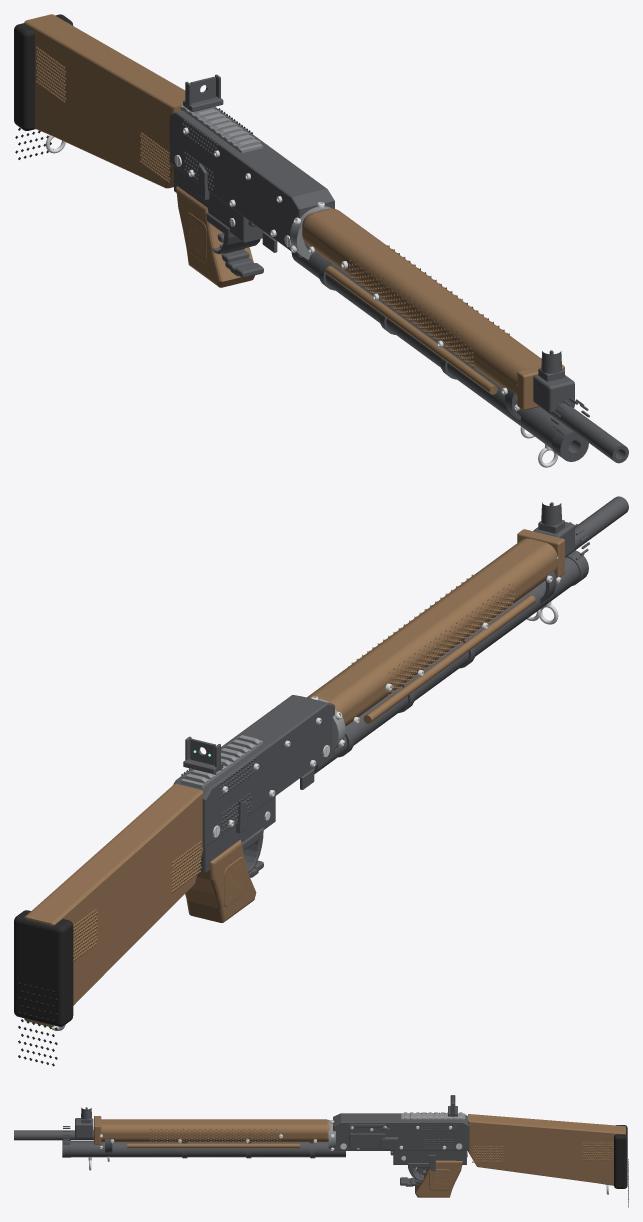
File: win94.glb
The picture shows the model from 3 angles, top to bottom: view 1: azimuth 30°, elevation 25°; view 2: azimuth 150°, elevation 25°; view 3: azimuth 270°, elevation 25°; orthographic projection. The views are drawn at different scales.
Parts seen in each view (by area): view 1: lever-action-rifle; view 2: lever-action-rifle; view 3: lever-action-rifle.
Part boxes in pixels (left/top/right/bottom): lever-action-rifle: left=14, top=14, right=628, bottom=467; lever-action-rifle: left=14, top=496, right=628, bottom=1066; lever-action-rifle: left=14, top=1095, right=628, bottom=1207.
Size of the model in its own units: 0.0526 by 0.1875 by 1.
